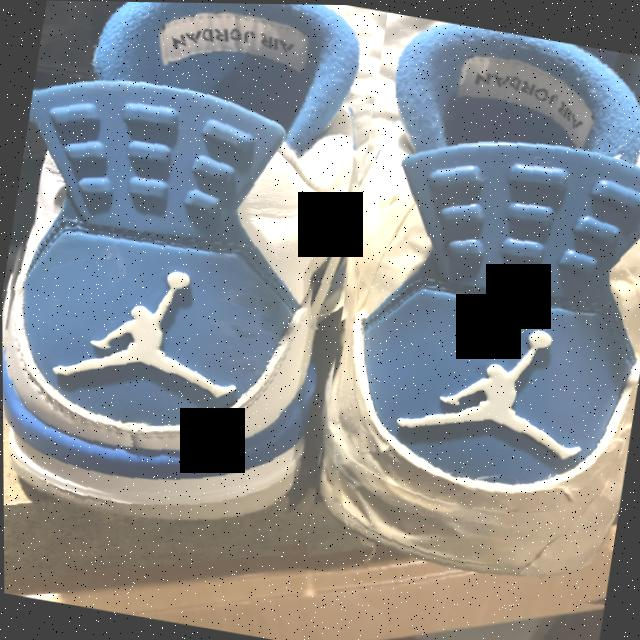shoe: (0, 0, 390, 570), (279, 6, 640, 619)
